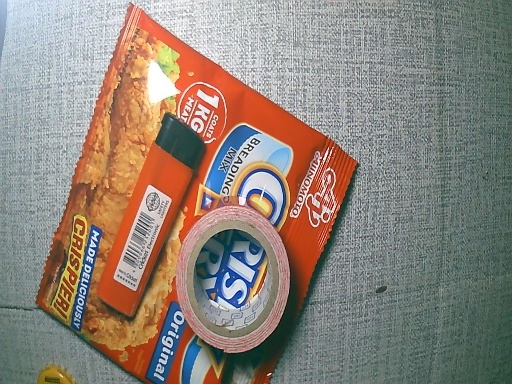metal: (29, 367, 77, 384)
plastic: (35, 9, 356, 384)
trash: (96, 115, 202, 319), (180, 203, 290, 357)
